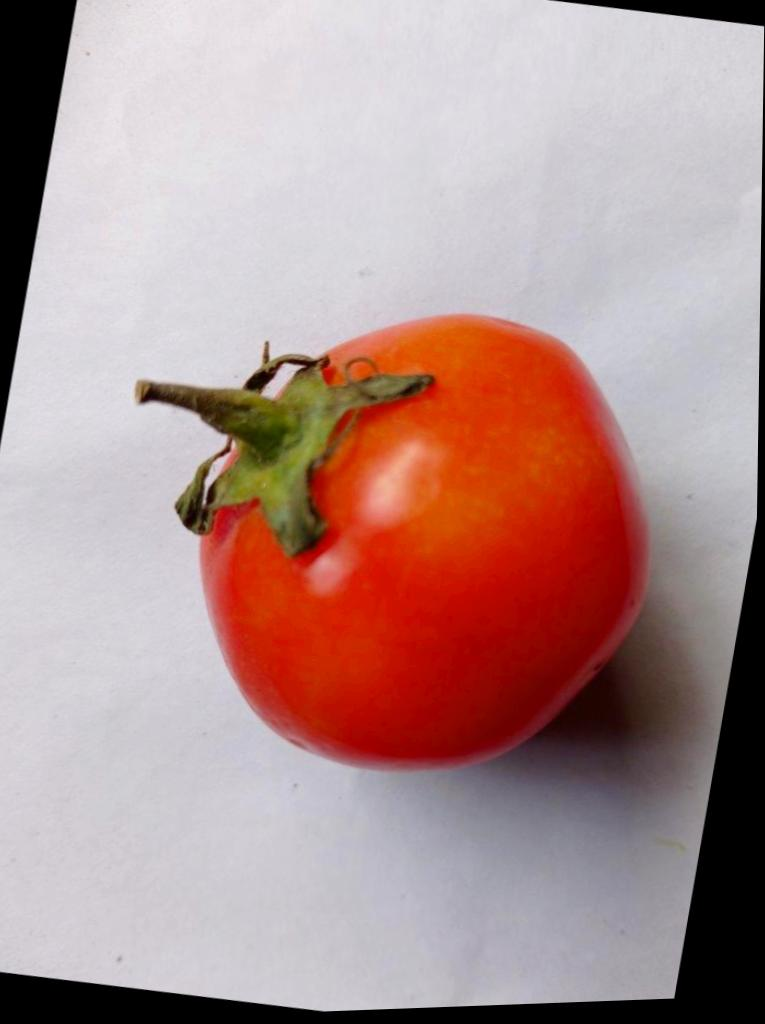tomato: (136, 315, 647, 768)
